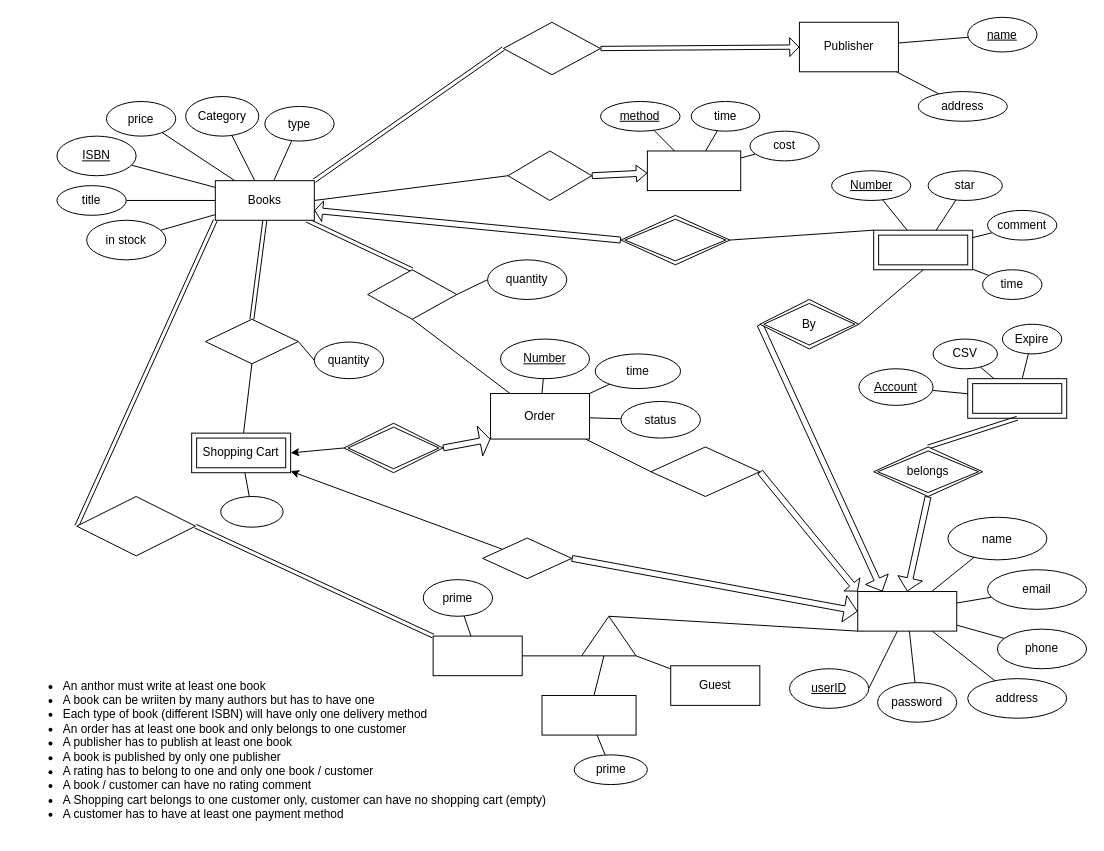
The diagram is 1104 pixels wide and 851 high, and some of its shapes have lost their labels. Here are the shapes that lost their labels. From the top down, the centre of each, then its label:
At point (551, 48): "publish".
At point (549, 175): "Through".
At point (693, 170): "Delivery".
At point (675, 239): "has".
At point (923, 249): "Rating".
At point (412, 294): "In".
At point (251, 341): "In_Cart".
At point (1017, 398): "Payment".
At point (393, 447): "Pending".
At point (705, 471): "Place".
At point (136, 525): "write".
At point (251, 511): "ID".
At point (527, 558): "Put".
At point (907, 611): "Customer".
At point (477, 655): "Author".
At point (608, 635): "ISA".
At point (588, 714): "Member".
